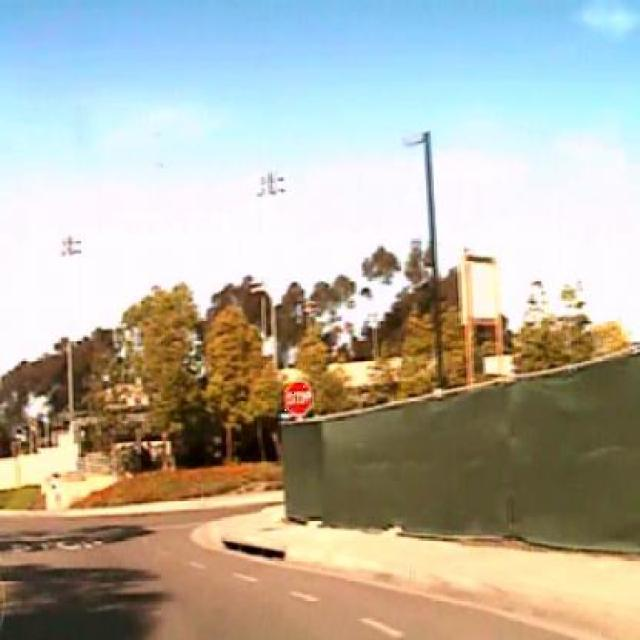stop: (285, 378, 312, 416)
